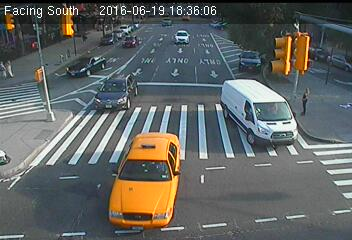neg: (78, 78, 105, 115), (205, 41, 223, 65), (231, 30, 247, 51), (171, 61, 186, 80)
pos: (295, 83, 321, 117), (3, 57, 20, 80), (77, 27, 91, 44)
